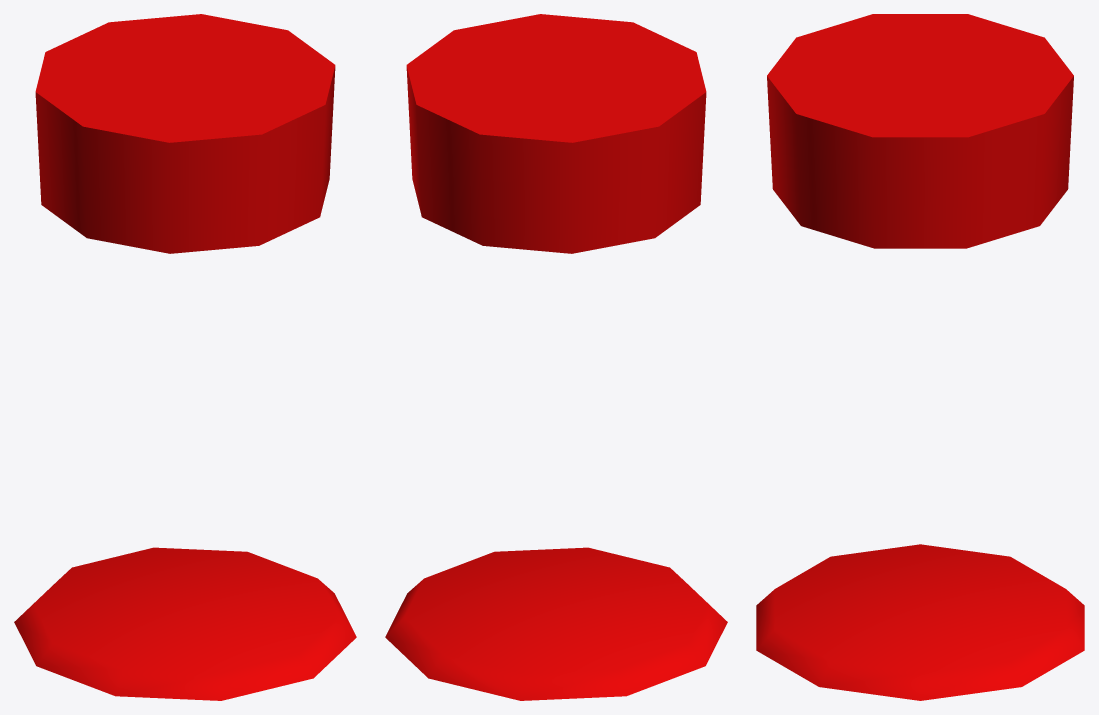
Rendered from Stool_01_Lod2.fbx.
3 views of the same model, side by side, from view 1: azimuth 30°, elevation 25°; view 2: azimuth 150°, elevation 25°; view 3: azimuth 270°, elevation 25° (orthographic).
Parts seen in each view (by area): view 1: Stool_01_Lod2; view 2: Stool_01_Lod2; view 3: Stool_01_Lod2.
Boxes of the visible parts, left/top/right/bottom form: Stool_01_Lod2: left=14, top=14, right=356, bottom=700; Stool_01_Lod2: left=385, top=14, right=727, bottom=700; Stool_01_Lod2: left=756, top=14, right=1084, bottom=700.
Size of the model in its own units: 45.98 by 81.16 by 43.73.
